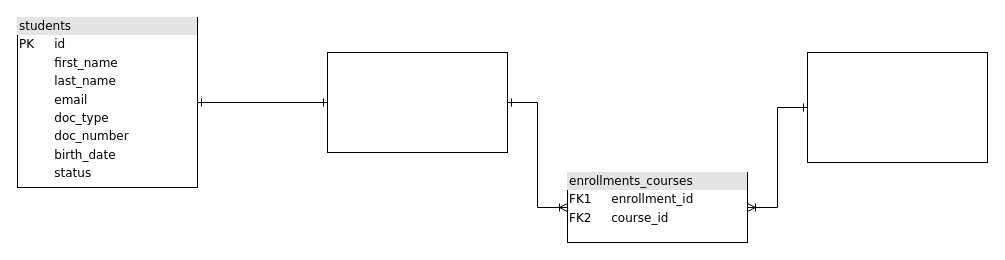
Image size: 1005x260. Some labels were removed from this diagram. Each missing label, with the centre of its shape:
courses PK id name acronym duration status: the point at 897,107
enrollments PK id FK1 student_id enrollment_date status: the point at 417,102
